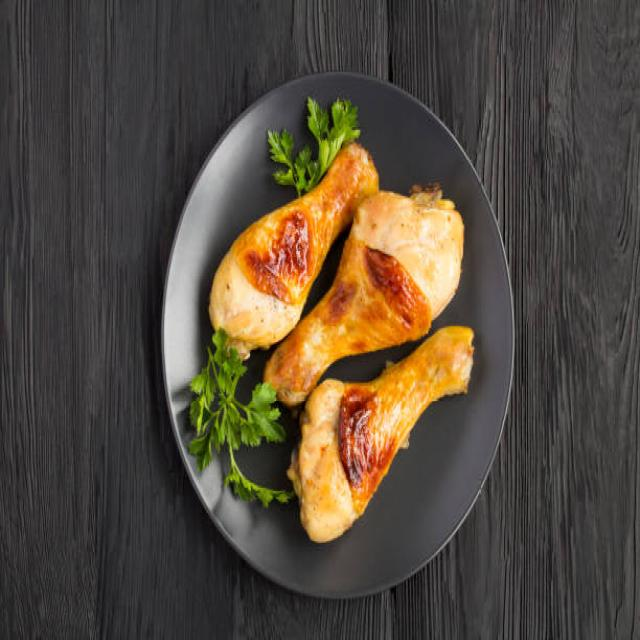Frango: (205, 138, 474, 547)
